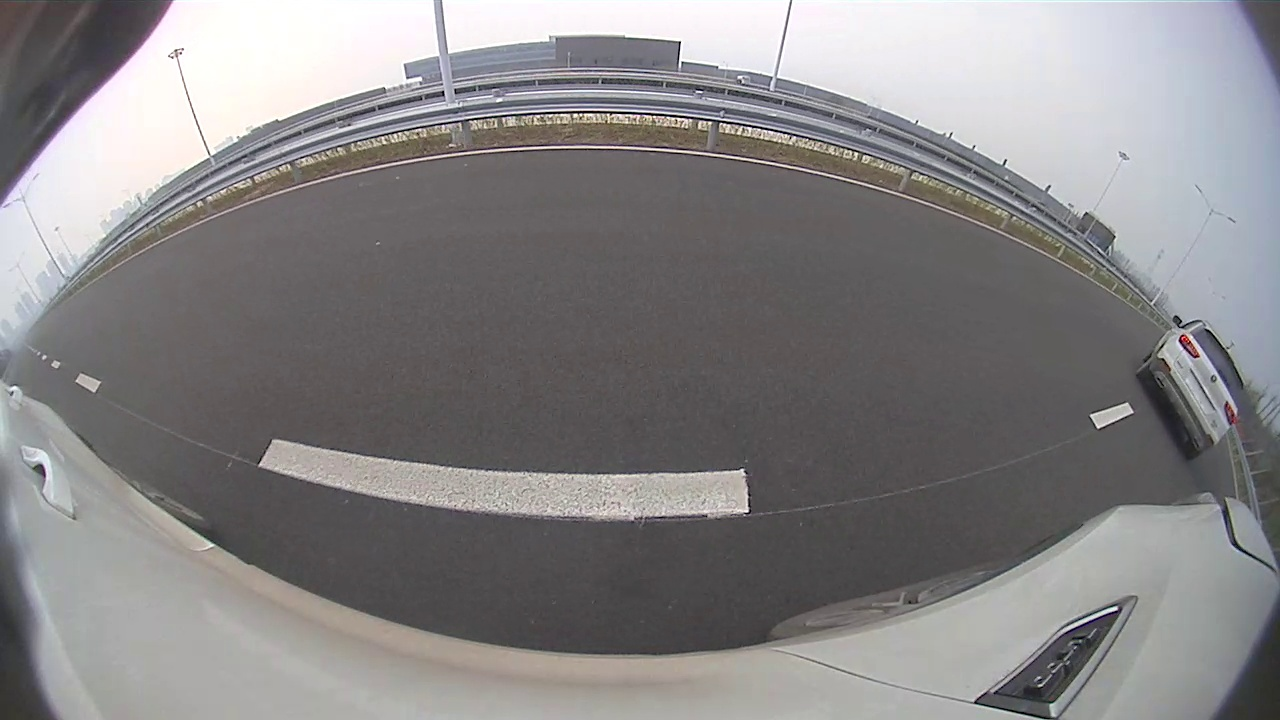car: (1137, 315, 1245, 461)
